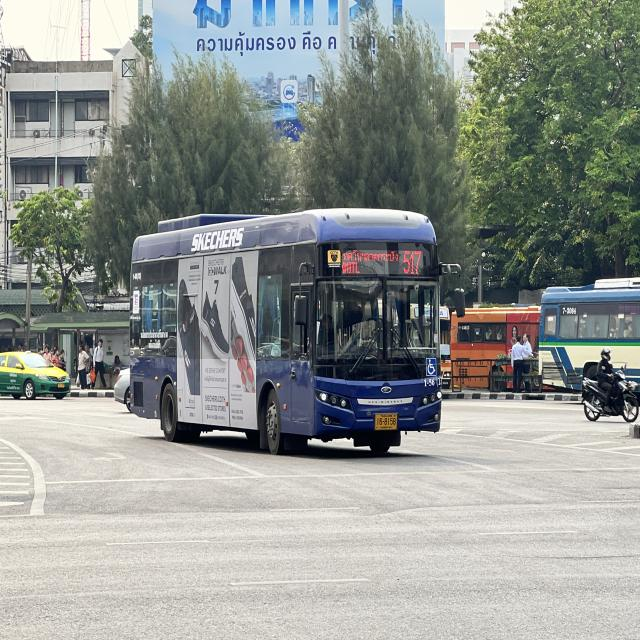Bus-Line-Number: (401, 248, 426, 277)
Destination-Sign-Normal: (338, 249, 400, 275)
TSB-Bus: (118, 208, 444, 457)
